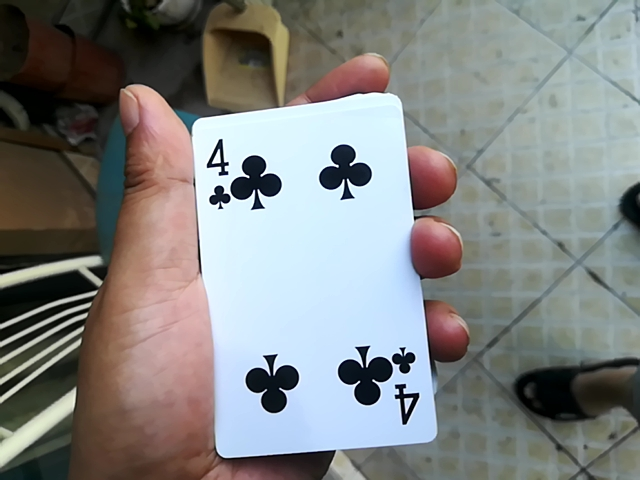mh 4: (180, 88, 424, 464)
